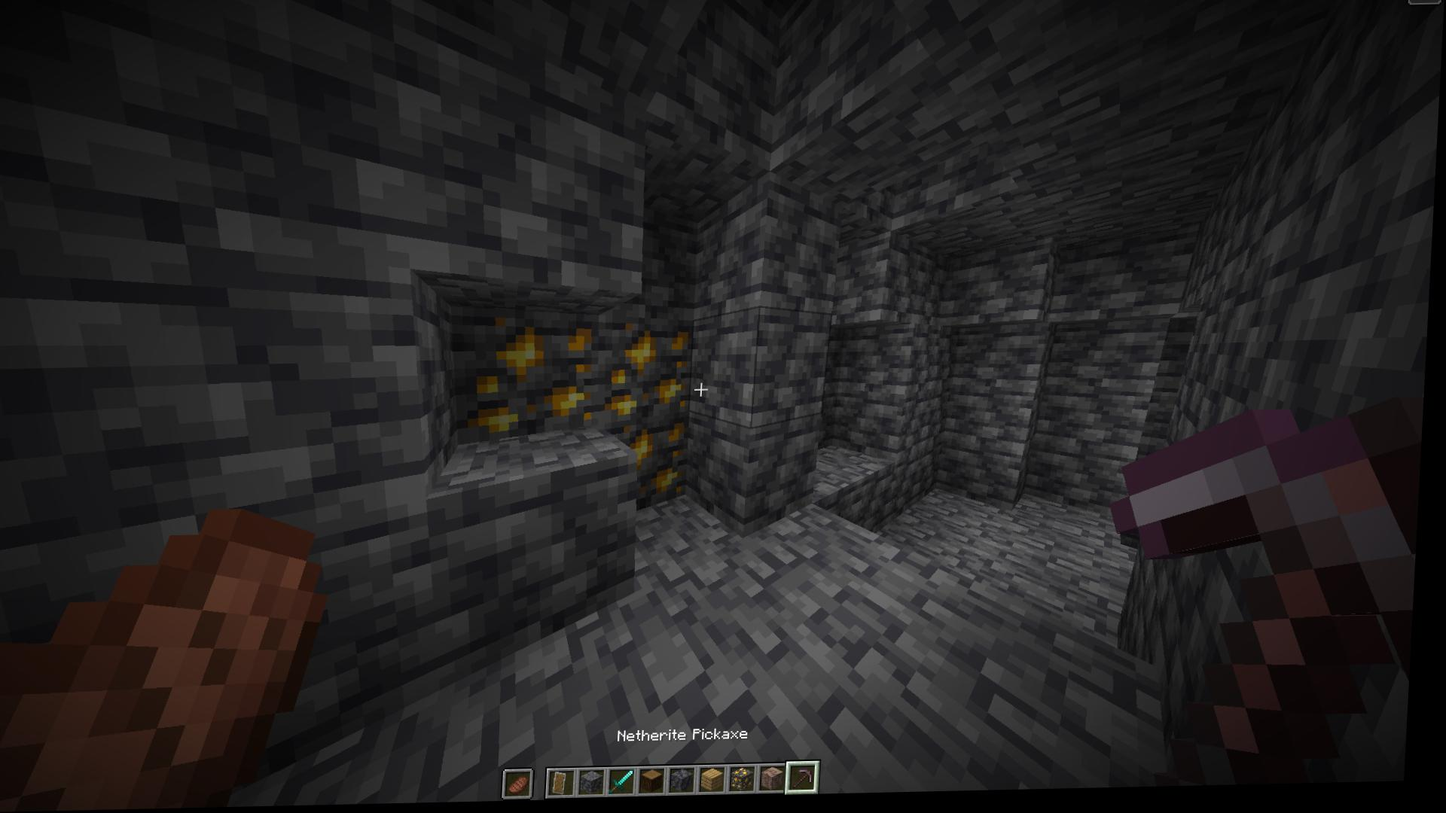gold ore: (449, 304, 604, 440), (594, 313, 700, 429), (640, 427, 693, 514)
